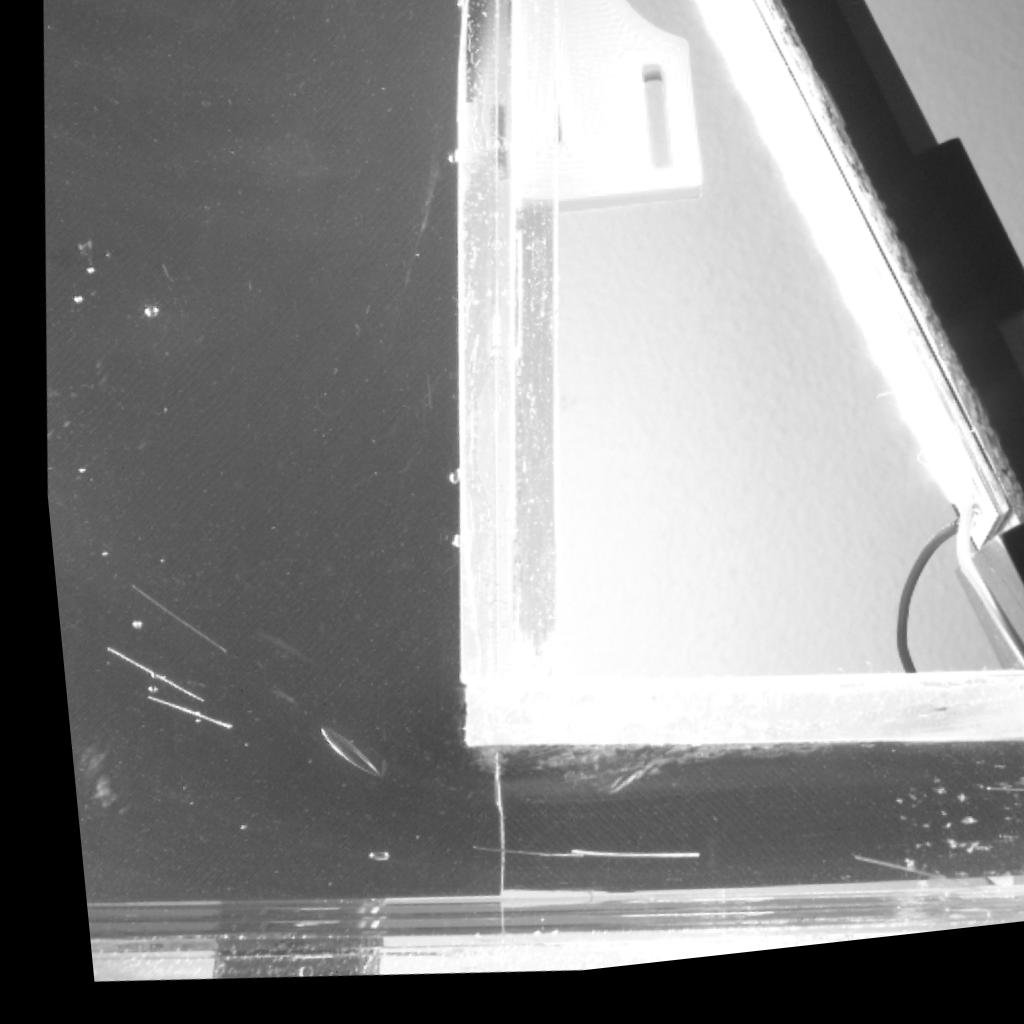Fiber: (115, 584, 215, 662), (88, 643, 192, 710), (829, 866, 958, 913), (131, 692, 217, 737), (551, 855, 683, 877), (456, 848, 566, 872), (964, 805, 1024, 819)
